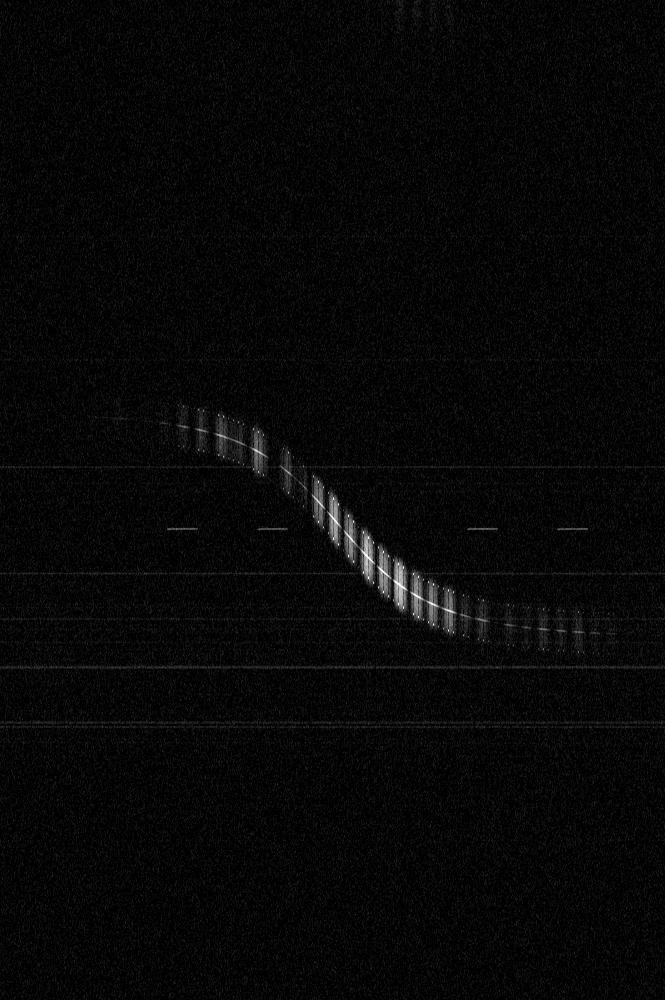signal: (0, 0, 664, 999)
